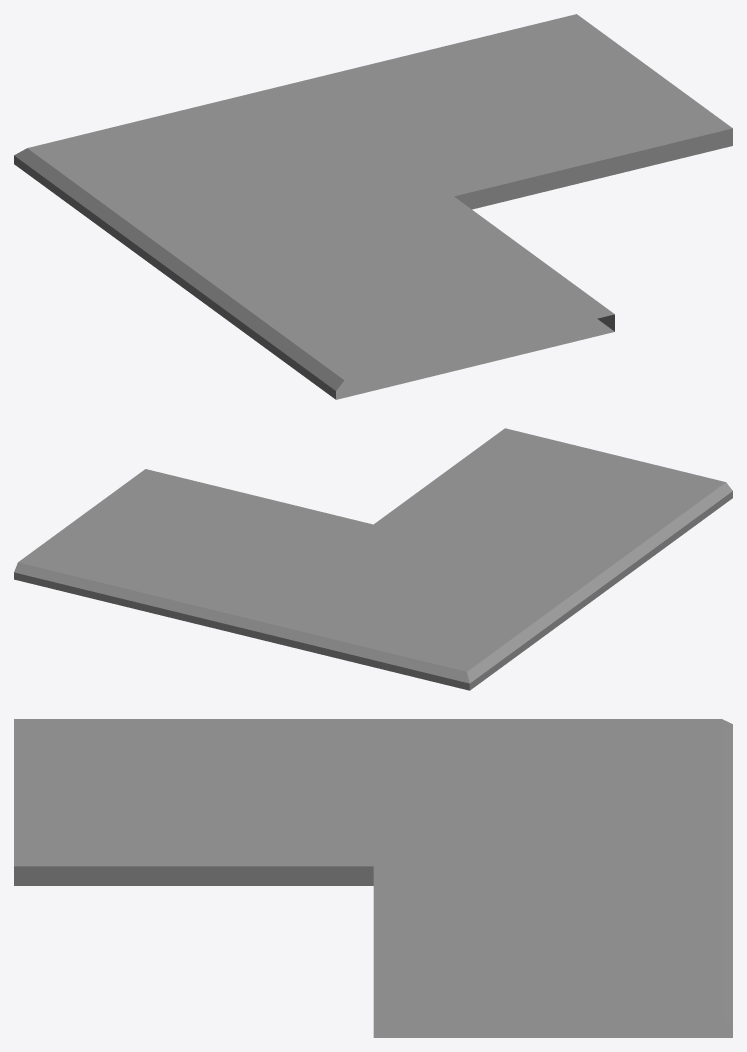
Rendered from SidewalkTurnSmall.fbx.
The picture shows the model from 3 angles, top to bottom: view 1: azimuth 30°, elevation 25°; view 2: azimuth 150°, elevation 25°; view 3: azimuth 270°, elevation 25°; orthographic projection. The views are drawn at different scales.
Parts seen in each view (by area): view 1: polySurface4; view 2: polySurface4; view 3: polySurface4.
Part boxes in pixels (x1,y1,x2,y2): polySurface4: [14, 14, 732, 399]; polySurface4: [14, 428, 732, 690]; polySurface4: [14, 719, 732, 1037].
Size of the model in its own units: 1 by 0.03 by 1.
1 material, 1 textured.
